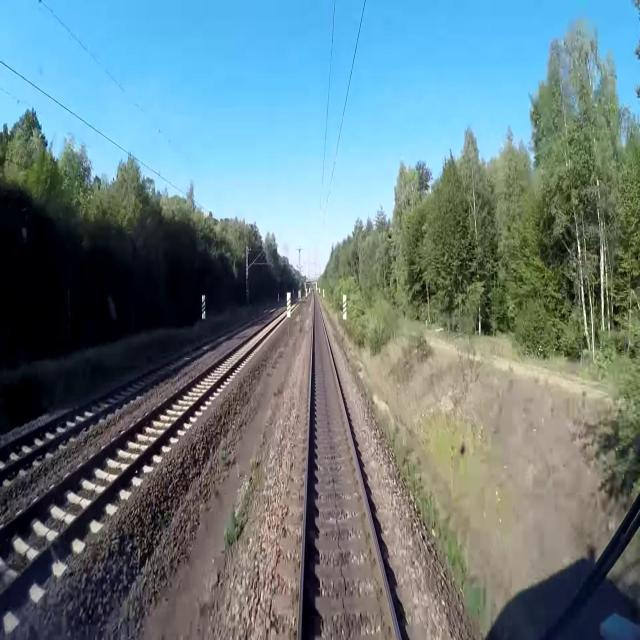rail-track: (0, 311, 286, 587), (302, 296, 397, 639), (0, 329, 235, 467)
